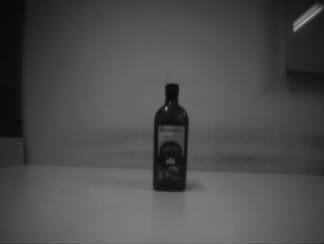Bottle: (152, 83, 189, 193)
